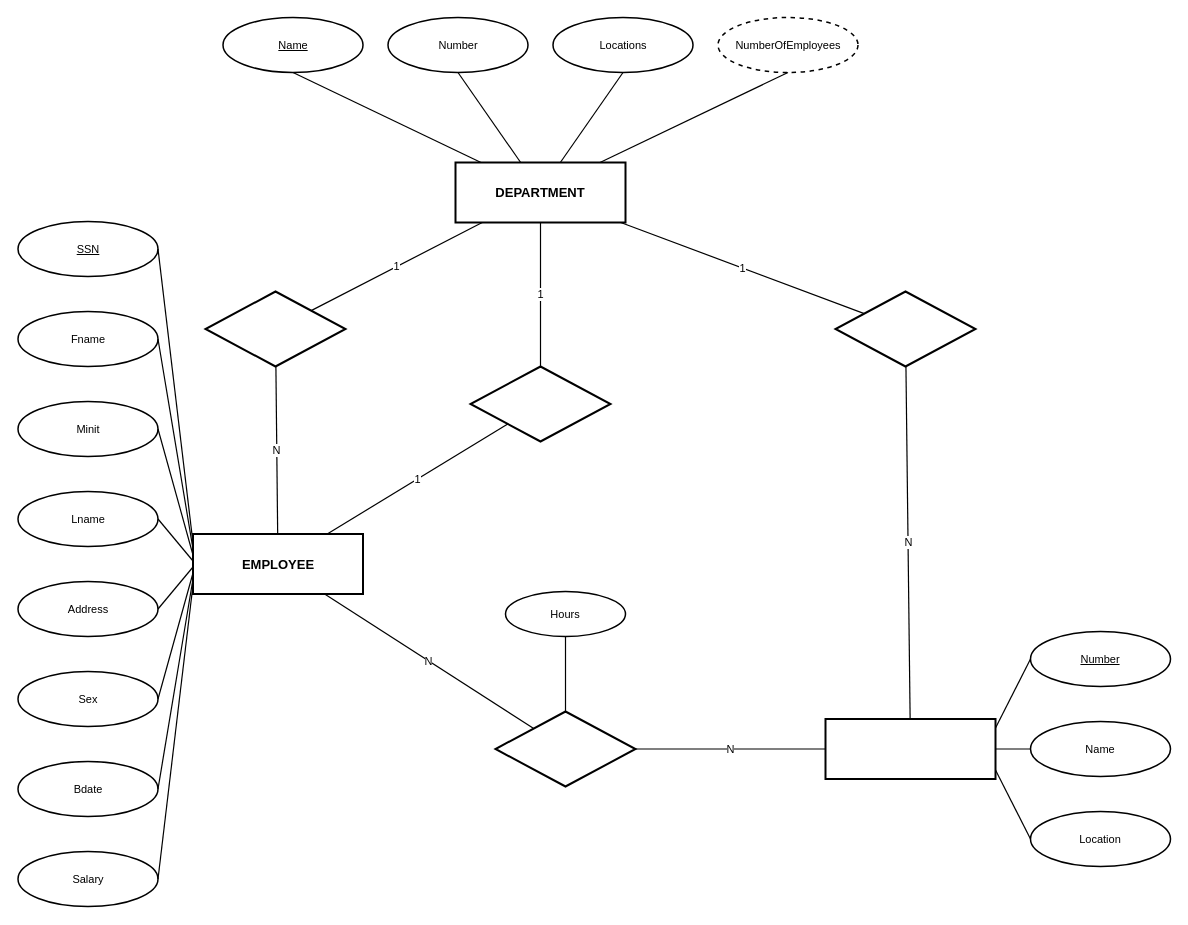
This 1188x925 diagram has some shape labels left out. Here are the shapes that lost their labels. From the top down, the centre of each, then its label:
[275,328]: works for
[905,328]: controls
[540,403]: manages
[565,748]: works on
[910,749]: PROJECT
